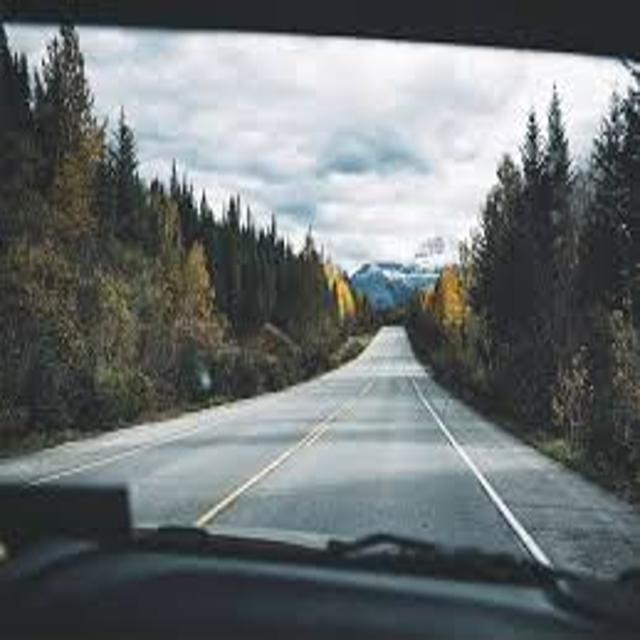car: (2, 477, 640, 640)
